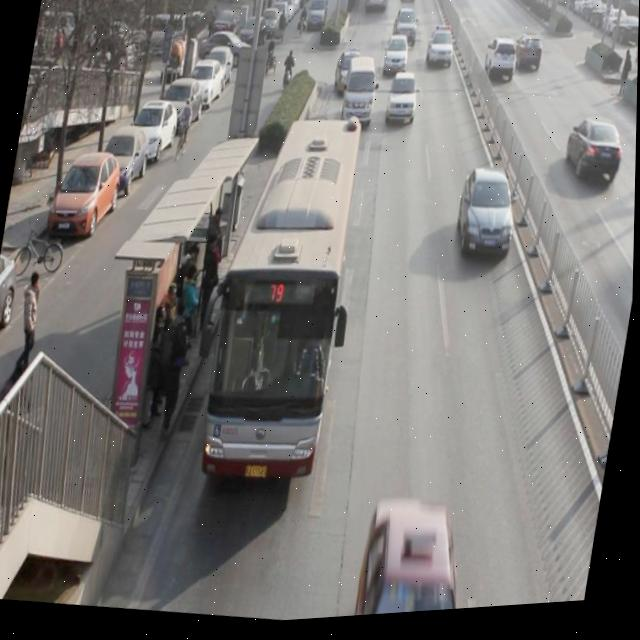car: (359, 502, 482, 621), (453, 171, 524, 273), (563, 123, 629, 197), (386, 76, 422, 132), (510, 35, 548, 87), (484, 39, 520, 93), (426, 28, 460, 80), (330, 51, 365, 99), (381, 39, 412, 86), (394, 14, 421, 54)
truck: (340, 62, 382, 137)
van: (194, 110, 368, 491), (361, 0, 389, 17)
